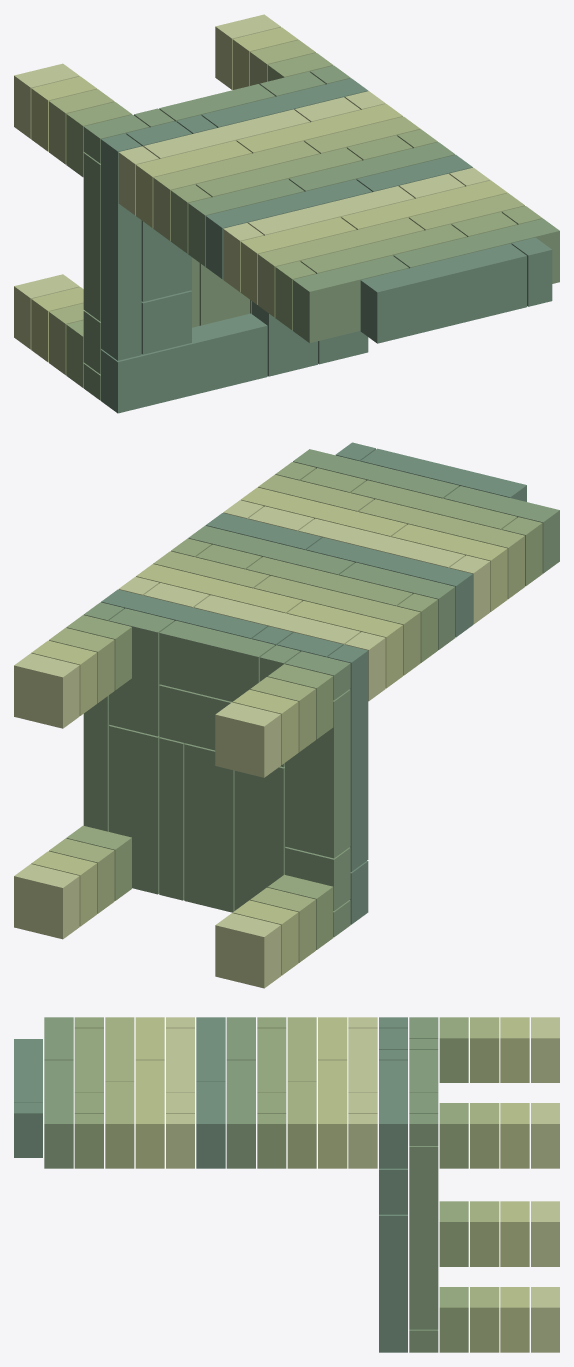
Rendered from structure.glb.
3 views of the same model, one above another, from view 1: azimuth 30°, elevation 25°; view 2: azimuth 150°, elevation 25°; view 3: azimuth 270°, elevation 25° (orthographic). The views are drawn at different scales.
Parts seen in each view (by area): view 1: geometry_0; view 2: geometry_0; view 3: geometry_0.
Boxes of the visible parts, x1,y1,x2,y2 form: geometry_0: [14, 14, 559, 413]; geometry_0: [14, 442, 559, 988]; geometry_0: [14, 1017, 559, 1352].
Size of the model in its own units: 9.95 by 9.95 by 21.55.
